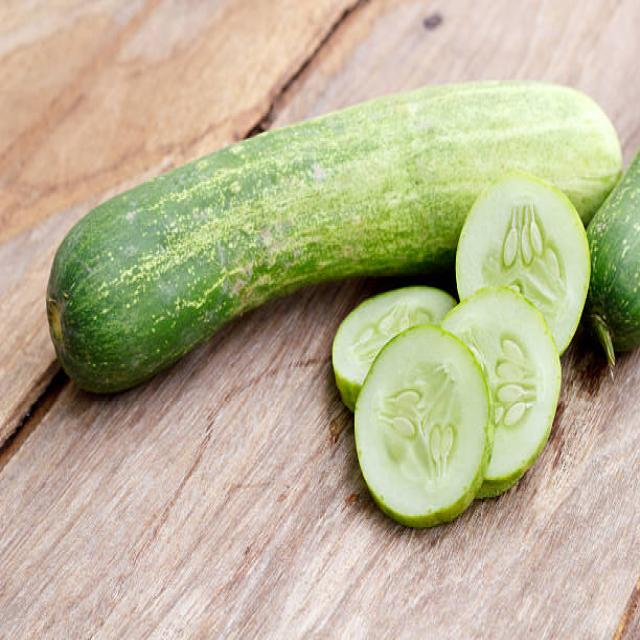cucumber: (47, 82, 624, 390)
